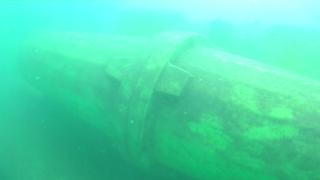pipe: (6, 25, 320, 180)
